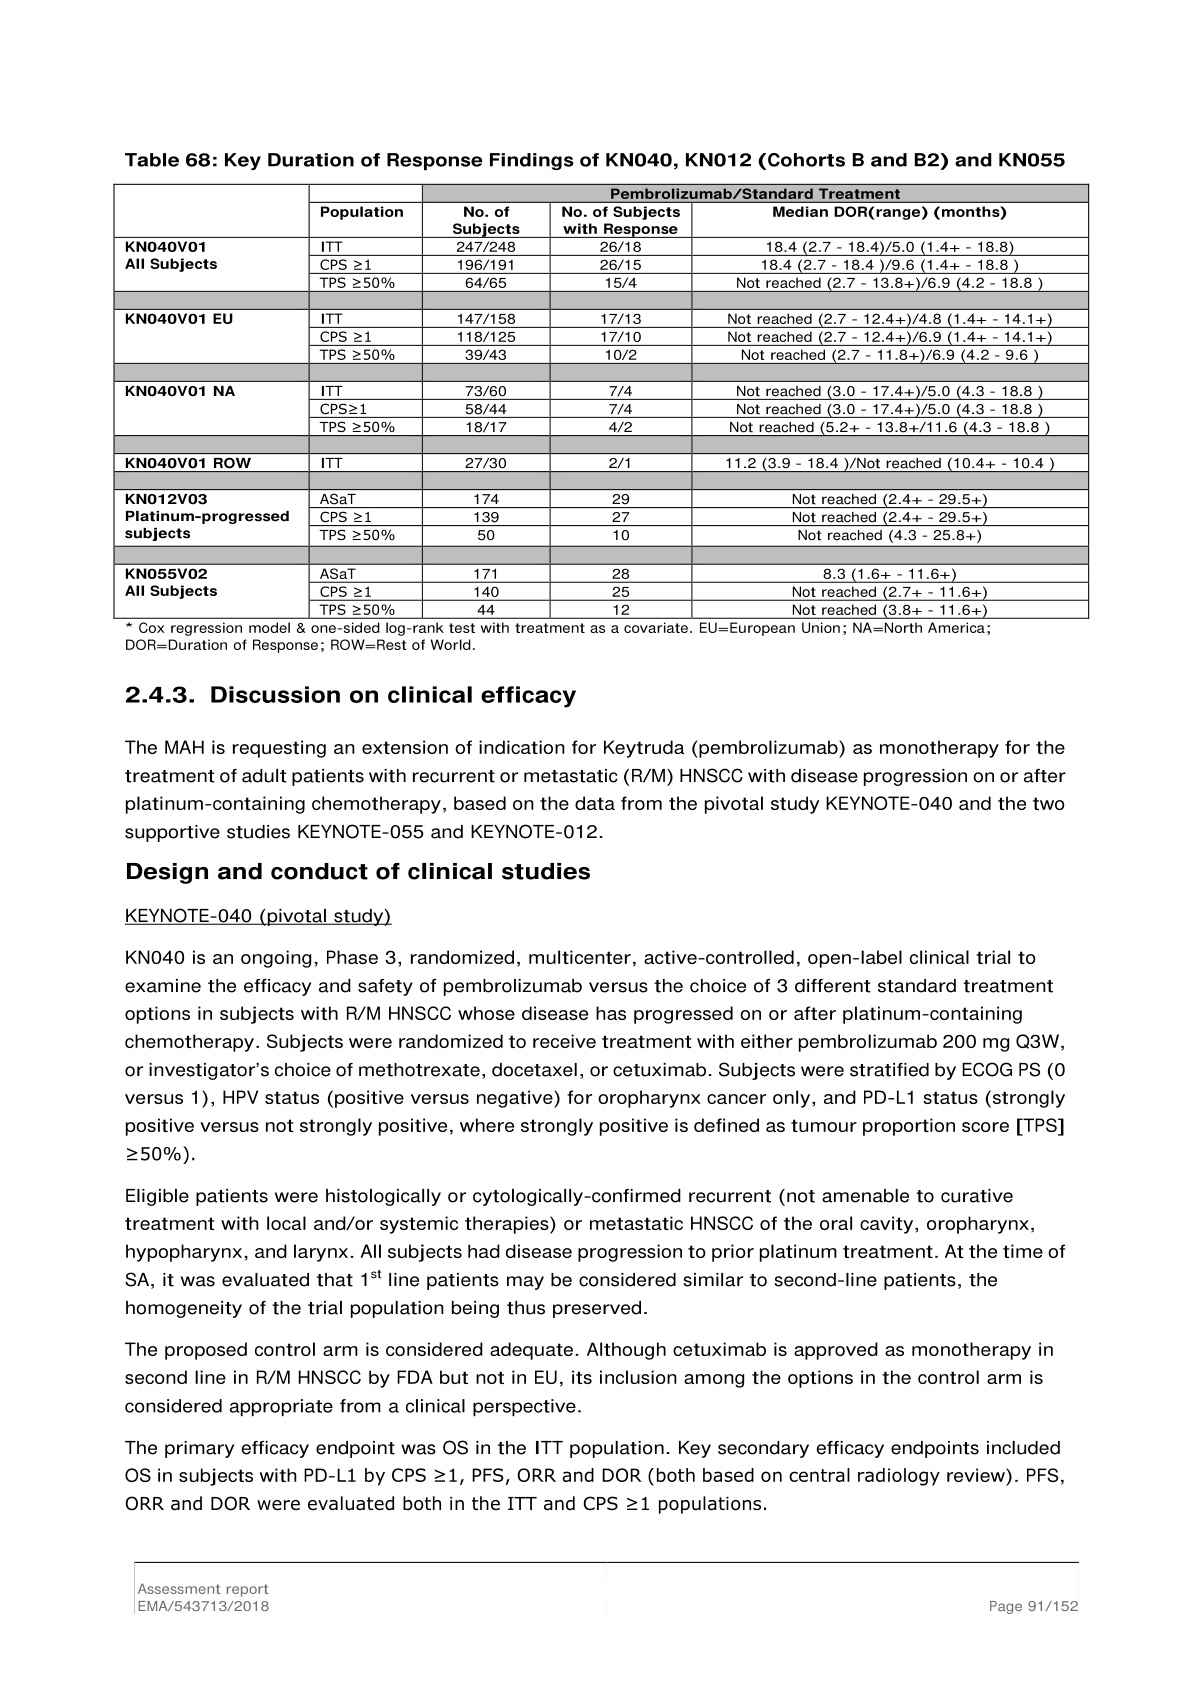merged_cells: (112, 183, 1090, 619)
